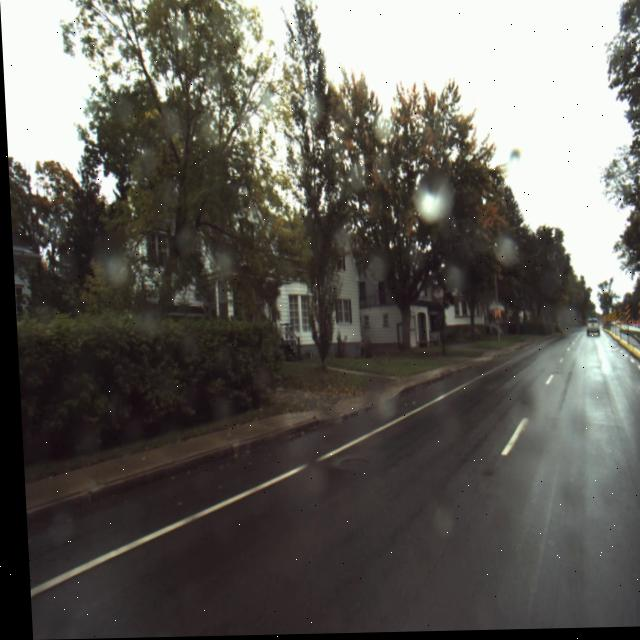car: (583, 318, 597, 340)
